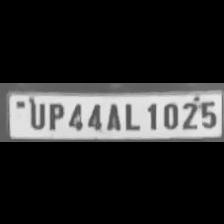0: (160, 100, 178, 128)
1: (141, 99, 158, 129)
2: (178, 98, 198, 130)
4: (65, 99, 85, 129), (84, 99, 102, 130)
5: (197, 97, 217, 128)
A: (103, 99, 121, 130)
L: (121, 99, 141, 130)
P: (44, 99, 64, 129)
U: (26, 100, 46, 128)
